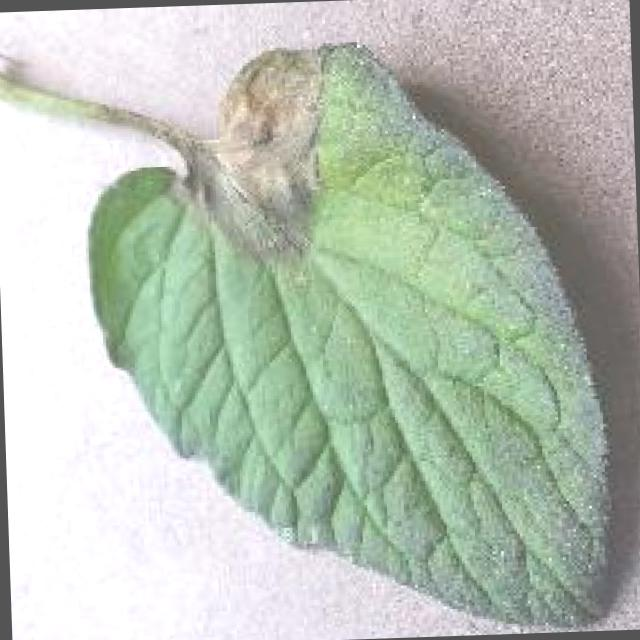leaf blight: (81, 36, 614, 617)
